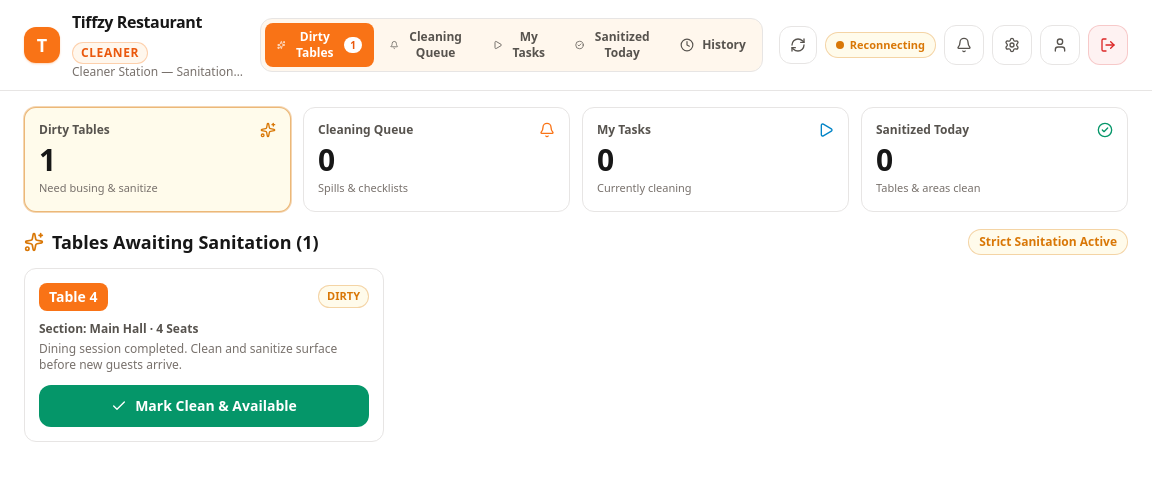
it: Cleaner Station Table Cleaning Synchronization Suite › TEST 7 & TEST 8: Clicking 'Mark Clean & Available' sanitizes table and removes it from dirty list
This screenshot has width=1152, height=487.
Expected: the text "Tables Awaiting Sanitation (1)" is shown, [52,228,319,256]
Expected: the text "Table 4" is shown, [39,282,108,310]
Click "Mark Clean & Available"
Click the button "Mark Clean & Available" at (204, 406), box [39,384,369,426]
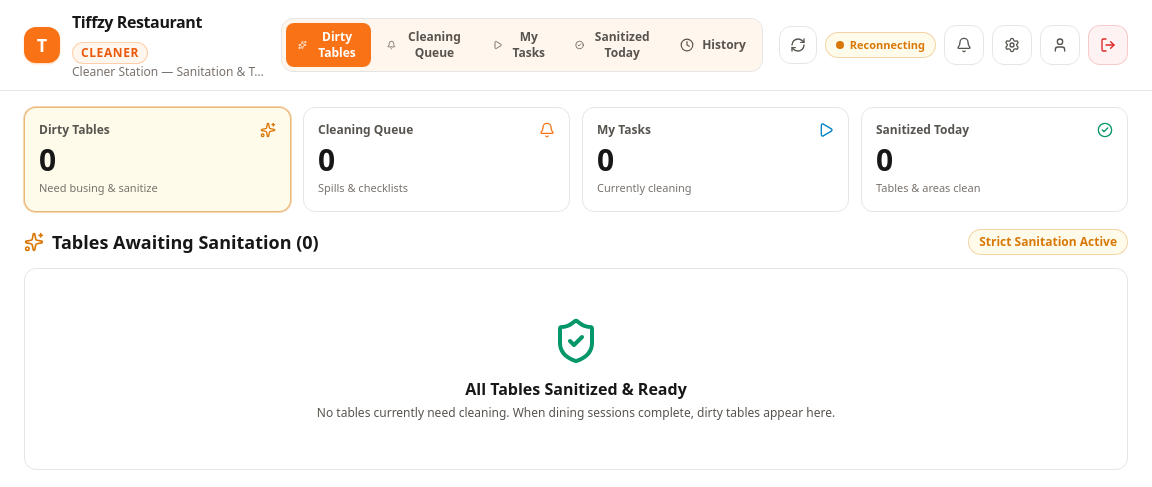
Result: the heading "All Tables Sanitized & Ready" is shown at [465,378,687,400]
Result: the text "Table 4" is gone
